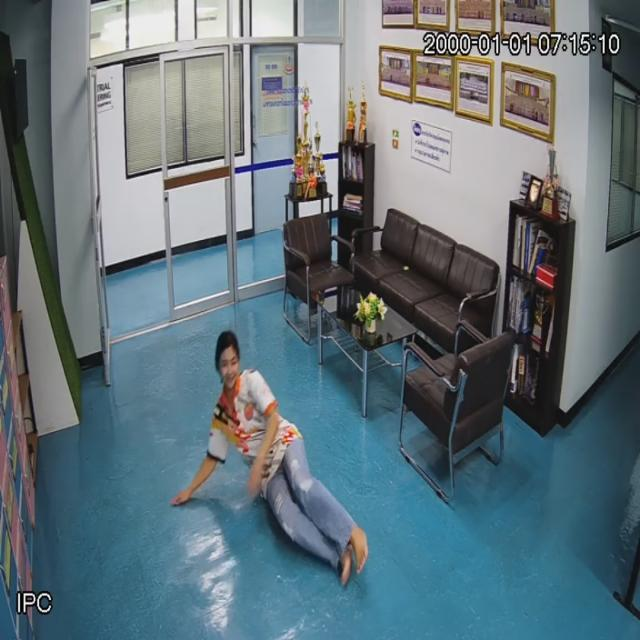fall: (203, 324, 371, 583)
